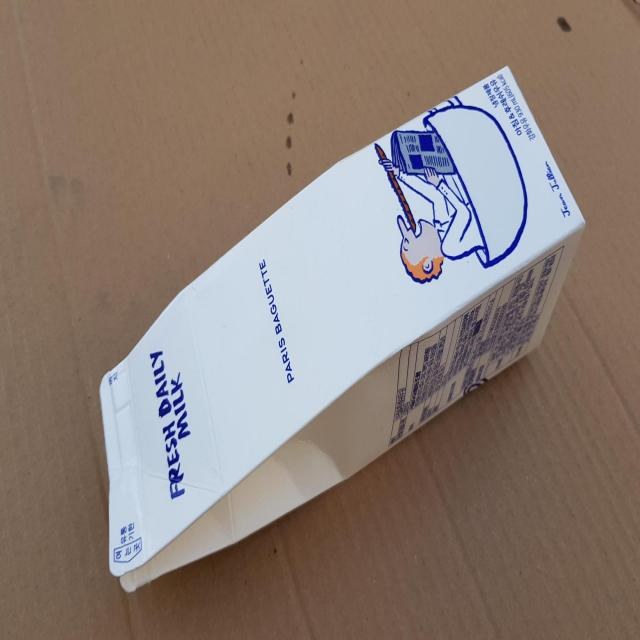paperpack: (99, 65, 585, 592)
